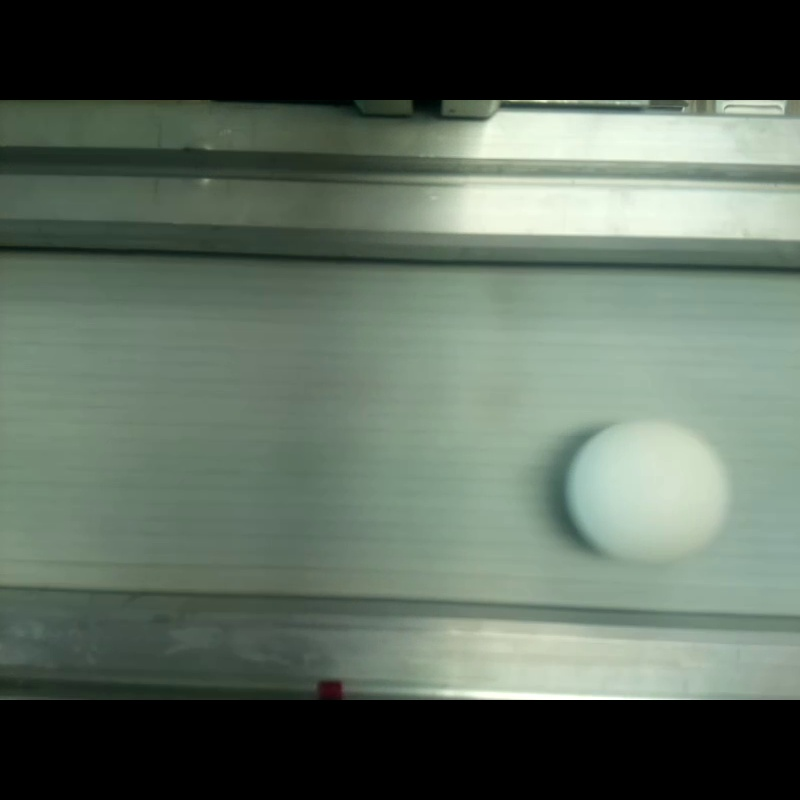marker: (567, 419, 729, 560)
